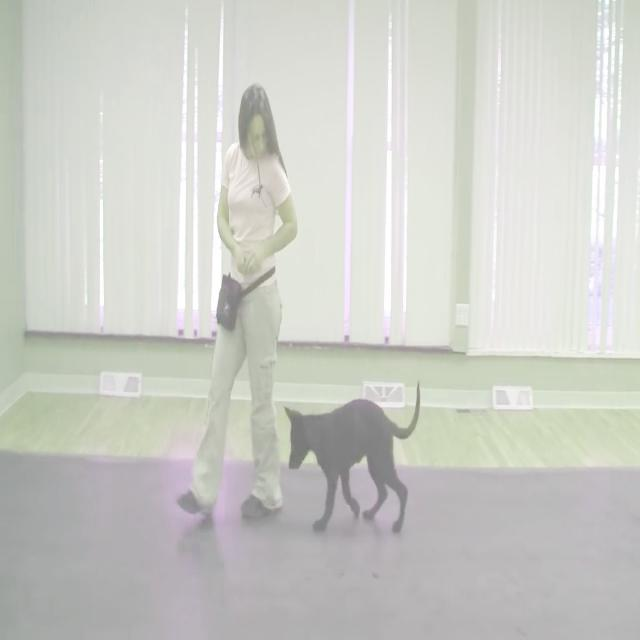Unleashed_Dog: (250, 380, 420, 532)
